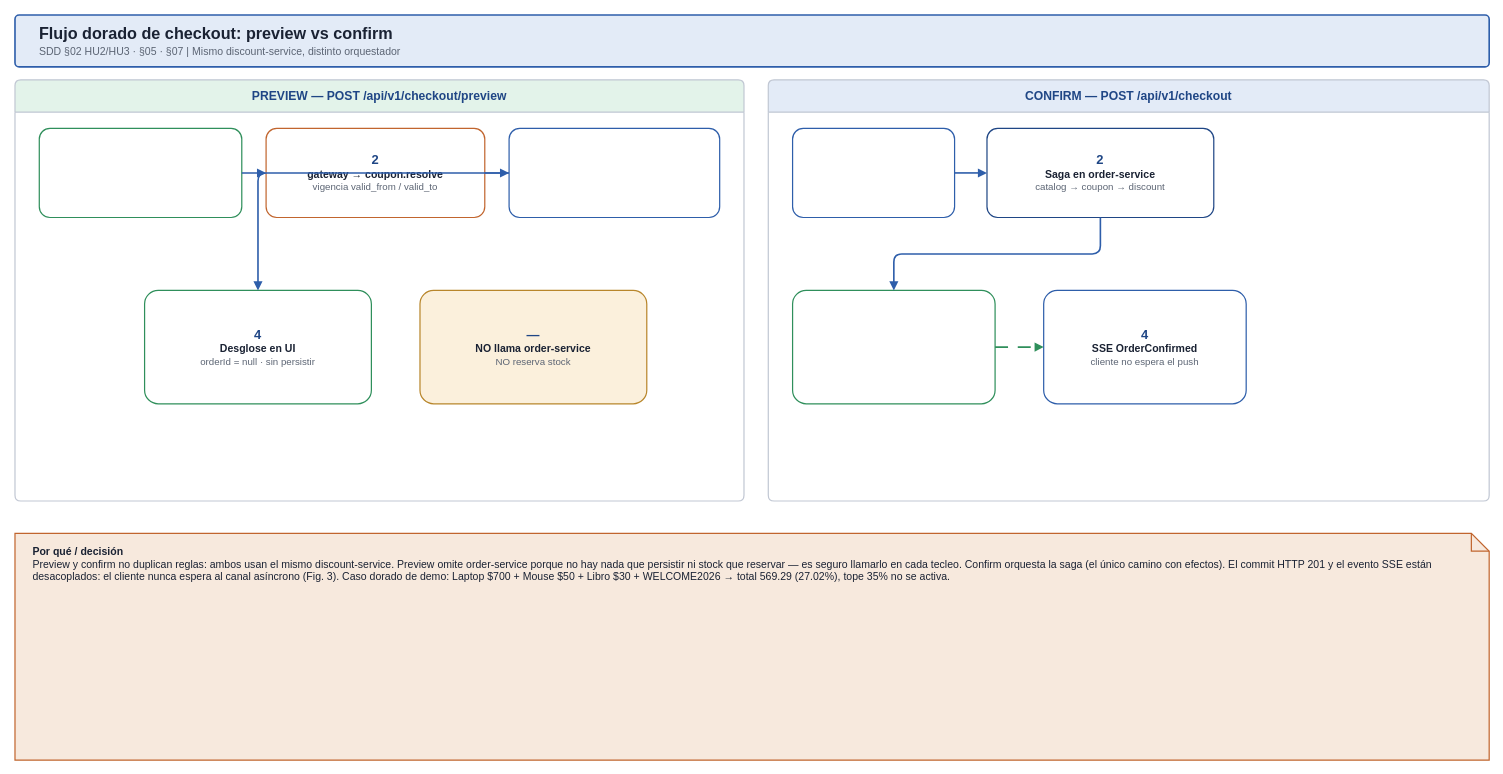
This 1503x774 diagram has some shape labels left out. The shapes that lost their labels are listed below. From the top down, each one's centre as x and y in pixels, then its label:
pixel 140 172: 1 Cliente aplica cupón debounce 300 ms
pixel 614 172: 3 gateway → discount.calculate cascada + tope 35%
pixel 873 172: 1 Click Pagar Bearer demo o JWT
pixel 893 346: 3 Tx: order + items + outbox 201 + breakdown
